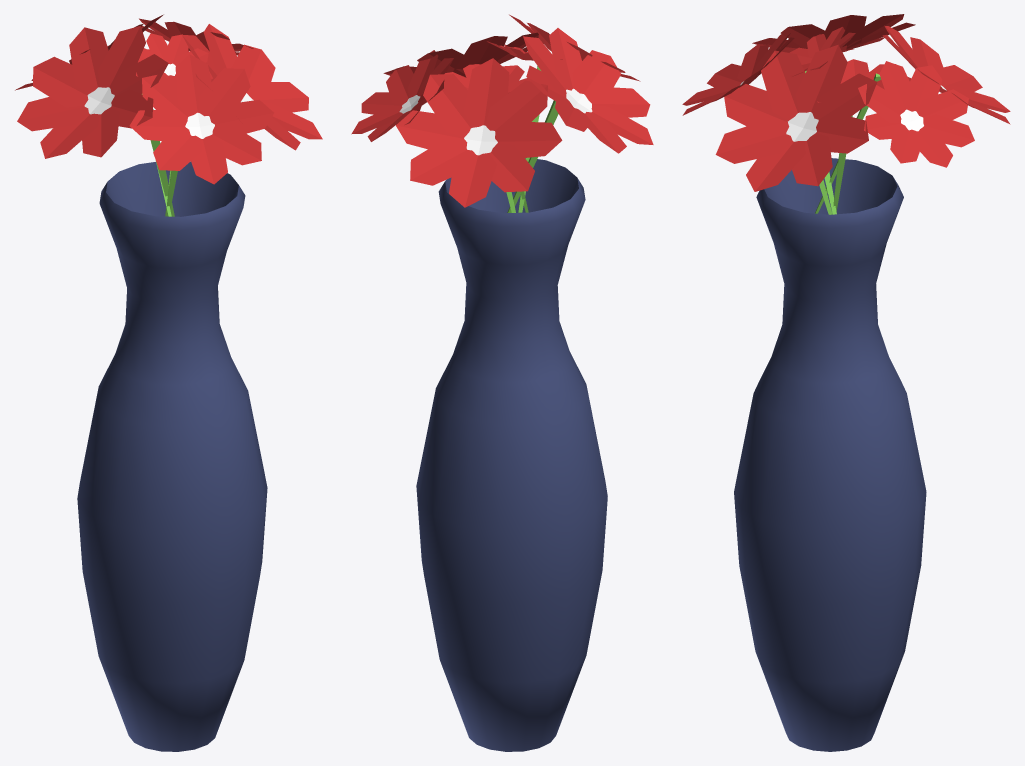
File: Vase 1.fbx
3 views of the same model, side by side, from view 1: azimuth 30°, elevation 25°; view 2: azimuth 150°, elevation 25°; view 3: azimuth 270°, elevation 25° (orthographic).
Visible parts, largest first — view 1: Table&Vase; view 2: Table&Vase; view 3: Table&Vase.
Part boxes in pixels (<box>): Table&Vase: <box>15,14,322,751</box>; Table&Vase: <box>351,14,653,751</box>; Table&Vase: <box>682,14,1010,751</box>.
Bounding box in the file's own units: 78.78 × 201 × 84.46.
